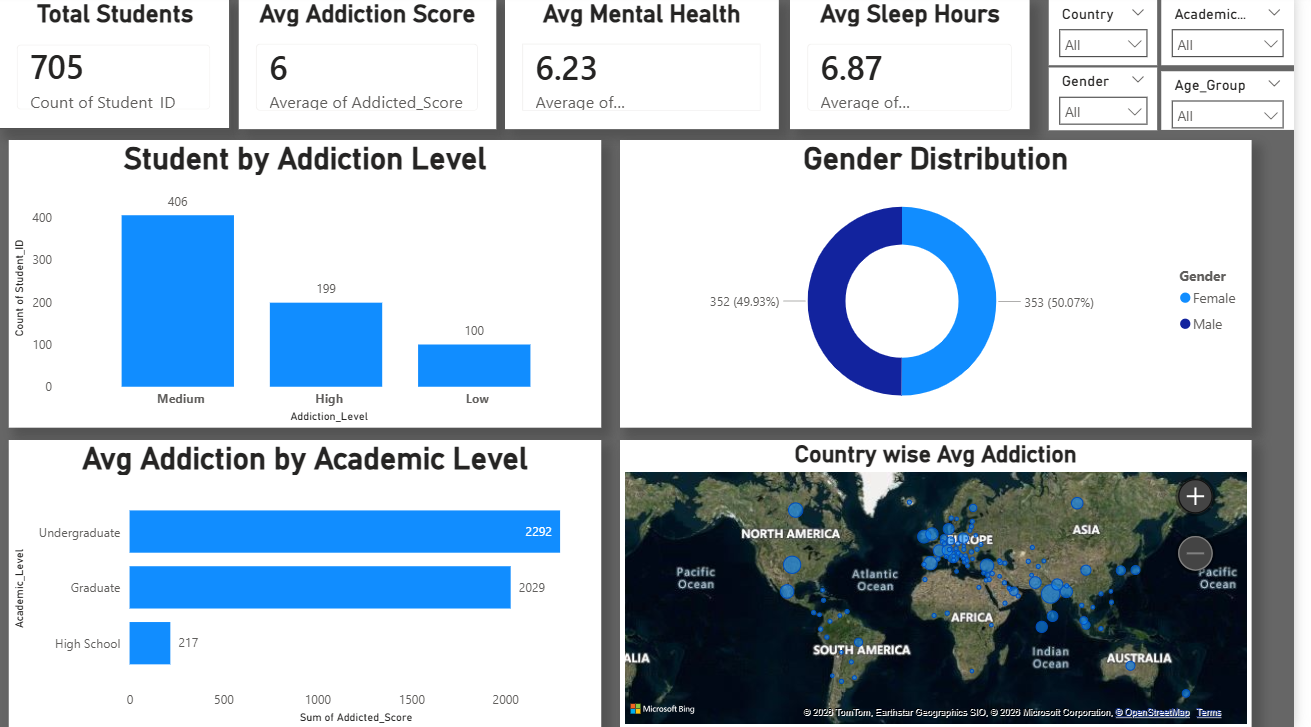

The dashboard page shown, as its layout file describes it:
{"tool":"powerbi","page":{"name":"Overview","canvas":[1280,720],"ordinal":0},"visuals":[{"type":"cardVisual","title":"Total Students","fields":{"Data":["CountNonNull(Student Details.Student_ID)"]},"box":[8.6,3.7,227,127.6],"z":0},{"type":"cardVisual","title":"Avg Addiction Score","fields":{"Data":["Avg(Student Details.Addicted_Score)"]},"box":[244.2,3.7,252.8,127.6],"z":1000},{"type":"cardVisual","title":"Avg Mental Health","fields":{"Data":["Avg(Student Details.Mental_Health_Score)"]},"box":[505.5,3.7,268.7,127.6],"z":2000},{"type":"cardVisual","title":"Avg Sleep Hours","fields":{"Data":["Avg(Student Details.Sleep_Hours_Per_Night)"]},"box":[785.3,3.7,235.6,127.6],"z":3000},{"type":"clusteredColumnChart","title":"Student by Addiction Level","fields":{"Category":["Student Details.Addiction_Level"],"Y":["CountNonNull(Student Details.Student_ID)"]},"box":[18.4,142.3,581.6,282.2],"z":4000},{"type":"donutChart","title":"Gender Distribution","fields":{"Category":["Student Details.Gender"],"Y":["CountNonNull(Student Details.Student_ID)"]},"box":[618.8,142.5,620,282.5],"z":5000},{"type":"clusteredBarChart","title":"Avg Addiction by Academic Level","fields":{"Category":["Student Details.Academic_Level"],"Y":["Sum(Student Details.Addicted_Score)"]},"box":[18.4,436.8,581.6,283.4],"z":6000},{"type":"map","title":"Country wise Avg Addiction","fields":{"Category":["Student Details.Country"],"Size":["Sum(Student Details.Addicted_Score)"]},"box":[618.8,436.2,620,283.8],"z":7000},{"type":"slicer","fields":{"Values":["Student Details.Country"]},"box":[1039.3,4.9,106.7,63.8],"z":8000},{"type":"slicer","fields":{"Values":["Student Details.Gender"]},"box":[1039.3,71.2,106.7,61.4],"z":9000},{"type":"slicer","fields":{"Values":["Student Details.Academic_Level"]},"box":[1149.7,4.9,130.1,63.8],"z":10000},{"type":"slicer","fields":{"Values":["Student Details.Age_Group"]},"box":[1149.7,74.8,130.1,57.7],"z":11000}]}

Visuals, with their boxes in screenshot pixels (x1, y1, x2, y2), scaled from the page's 1280x720 canvas onto the 1311x727 screenshot:
"Total Students" cardVisual: <box>9,4,241,133</box>
"Avg Addiction Score" cardVisual: <box>250,4,509,133</box>
"Avg Mental Health" cardVisual: <box>518,4,793,133</box>
"Avg Sleep Hours" cardVisual: <box>804,4,1046,133</box>
"Student by Addiction Level" clusteredColumnChart: <box>19,144,615,429</box>
"Gender Distribution" donutChart: <box>634,144,1269,429</box>
"Avg Addiction by Academic Level" clusteredBarChart: <box>19,441,615,726</box>
"Country wise Avg Addiction" map: <box>634,440,1269,726</box>
slicer - Student Details.Country: <box>1064,5,1174,69</box>
slicer - Student Details.Gender: <box>1064,72,1174,134</box>
slicer - Student Details.Academic_Level: <box>1178,5,1310,69</box>
slicer - Student Details.Age_Group: <box>1178,76,1310,134</box>
